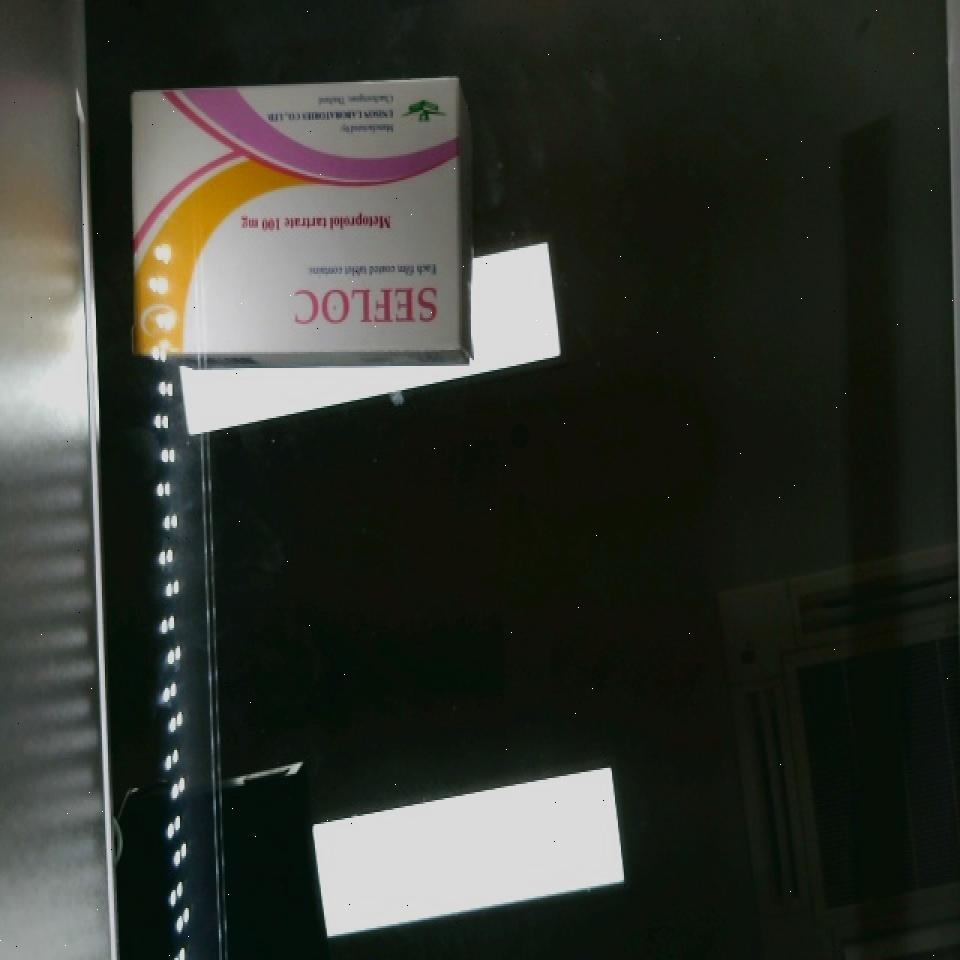medicine_box: (130, 77, 463, 358)
medicine_label_obb: (282, 276, 455, 340)
